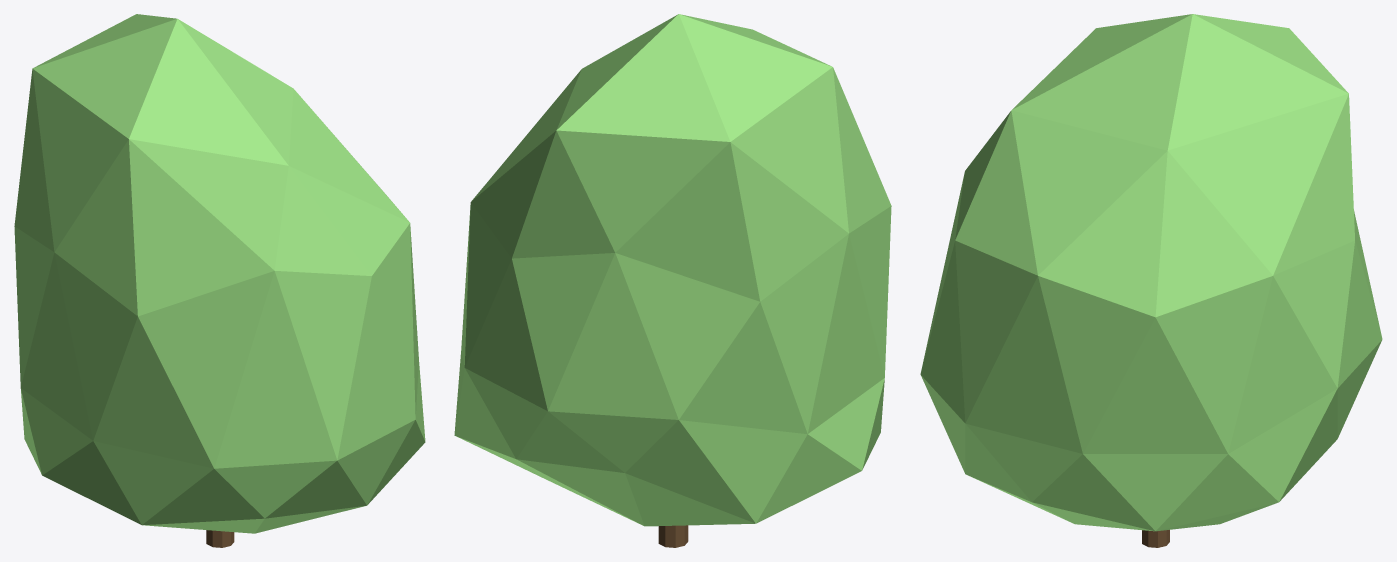
The model's file is bush 1.fbx.
The picture shows the model from 3 angles, left to right: view 1: azimuth 30°, elevation 25°; view 2: azimuth 150°, elevation 25°; view 3: azimuth 270°, elevation 25°; orthographic projection. The views are drawn at different scales.
Parts seen in each view (by area): view 1: Bush 1; view 2: Bush 1; view 3: Bush 1.
Part boxes in pixels (bbox=[...]): Bush 1: bbox=[14, 14, 425, 547]; Bush 1: bbox=[454, 14, 891, 547]; Bush 1: bbox=[920, 14, 1382, 547].
Size of the model in its own units: 446 by 634 by 514.
